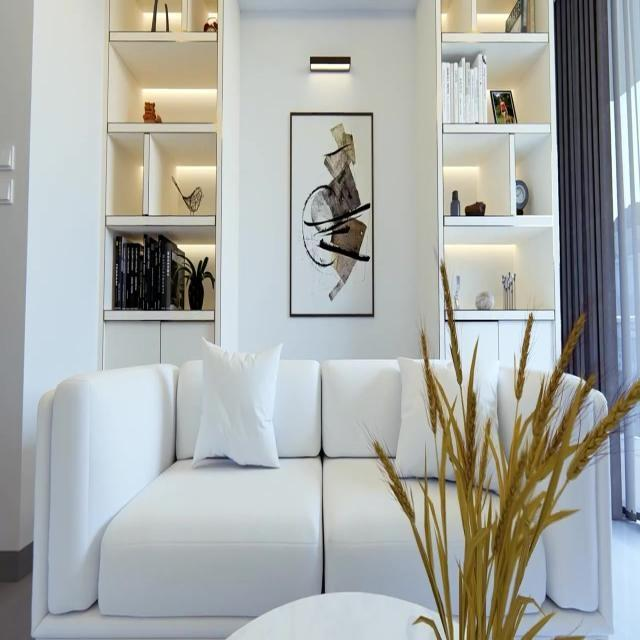obstacle: (30, 354, 612, 638), (436, 0, 558, 372), (101, 0, 222, 370)
